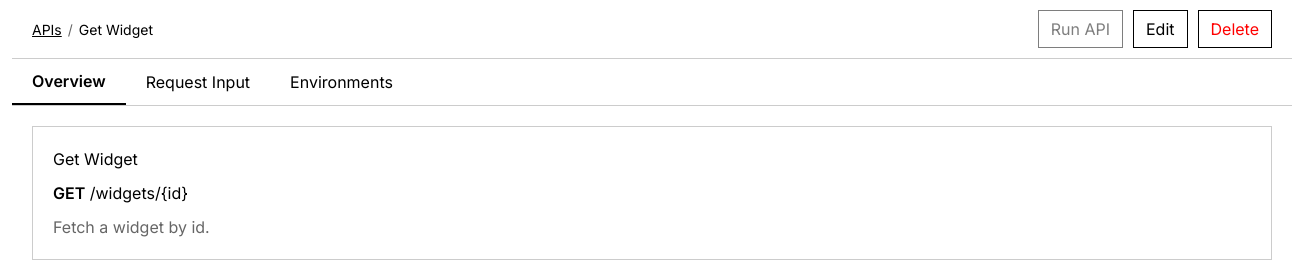
it: ApiDetailScreen — Request Input persistence › shows an inline error with Retry when the GET fails
expect the text "Fetch a widget by id." is shown: met, box 53,217 -> 210,237
Click the button "Request Input": (198, 82) 126,59 -> 270,105
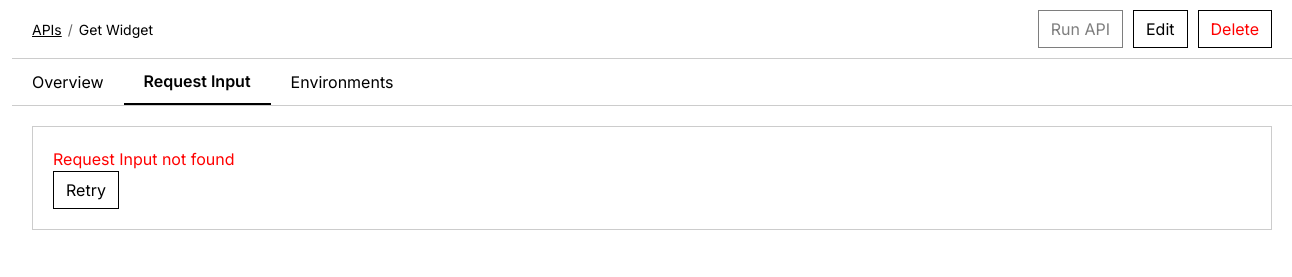
expect the text "Request Input not found" is shown: met, box 53,149 -> 234,169
expect the button "Retry" is shown: met, box 53,171 -> 119,209
